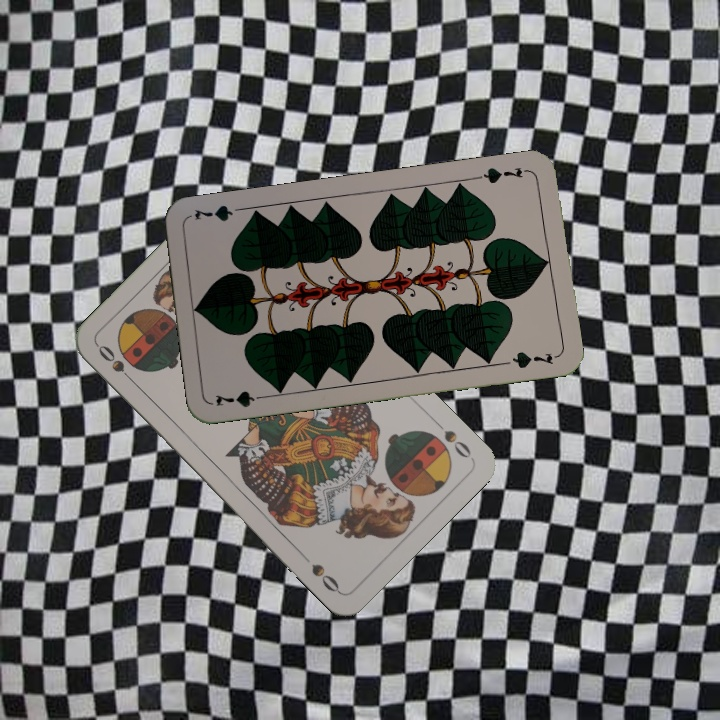G7: (211, 386, 270, 410), (474, 163, 533, 186)
SO: (94, 340, 140, 388), (429, 415, 474, 461)
